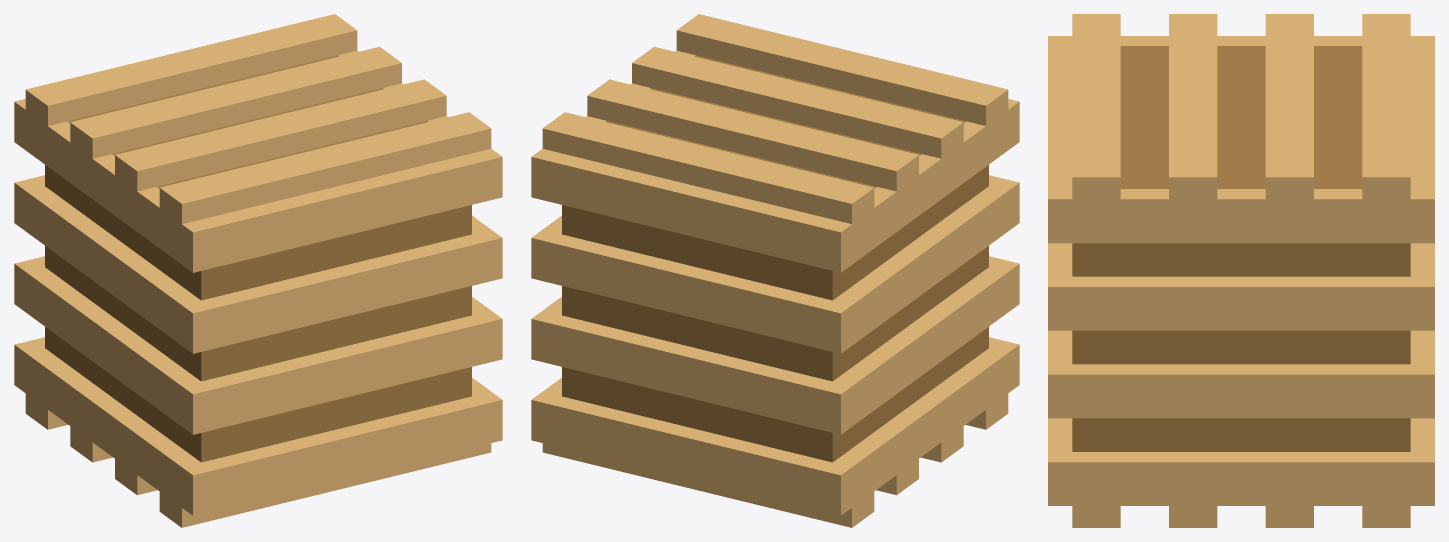
Rendered from oakPlank.gltf.
The picture shows the model from 3 angles, left to right: view 1: azimuth 30°, elevation 25°; view 2: azimuth 150°, elevation 25°; view 3: azimuth 270°, elevation 25°; orthographic projection. The views are drawn at different scales.
Visible parts, largest first — view 1: cuboid; view 2: cuboid; view 3: cuboid.
Part boxes in pixels (x1=…): cuboid: x1=14, y1=14, x2=502, y2=527; cuboid: x1=531, y1=14, x2=1019, y2=527; cuboid: x1=1048, y1=14, x2=1434, y2=527.
Bounding box in the file's own units: 1 × 1 × 1.
3 materials, 2 textured.
